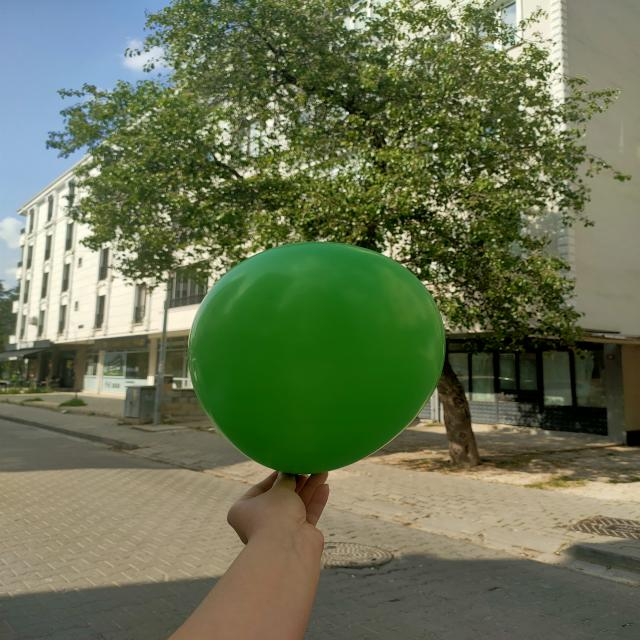green: (190, 243, 444, 475)
